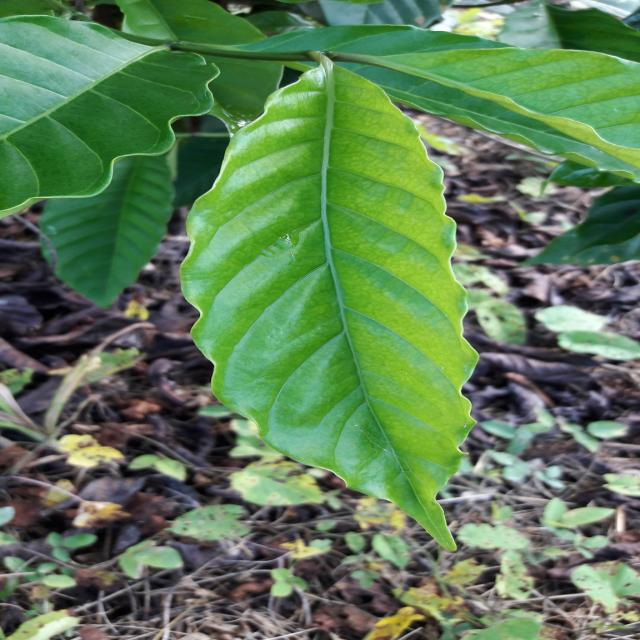Sanas: (179, 60, 479, 553)
